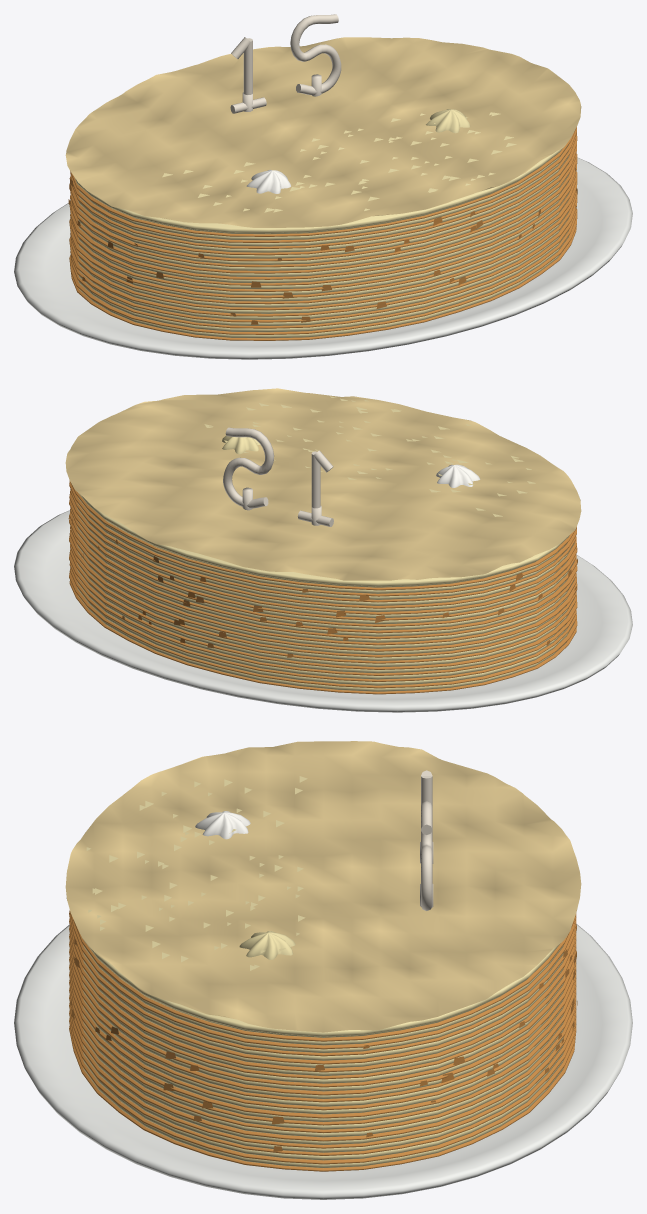
File: cake-15.7e28b0925a5c.glb
The picture shows the model from 3 angles, top to bottom: view 1: azimuth 30°, elevation 25°; view 2: azimuth 150°, elevation 25°; view 3: azimuth 270°, elevation 25°; orthographic projection. The views are drawn at different scales.
Visible parts, largest first — view 1: Irregular_hand_spread_food_surface, PART_FOOD_ROOT_MAT_durian, PART_FOOD_ROOT_MAT_sponge, Clean_porcelain_plate, PART_FOOD_ROOT_MAT_pearl_wax, Low_cream_whip; view 2: Irregular_hand_spread_food_surface, PART_FOOD_ROOT_MAT_durian, PART_FOOD_ROOT_MAT_sponge, Clean_porcelain_plate, PART_FOOD_ROOT_MAT_pearl_wax, Low_cream_whip; view 3: Irregular_hand_spread_food_surface, PART_FOOD_ROOT_MAT_sponge, PART_FOOD_ROOT_MAT_durian, Clean_porcelain_plate, PART_FOOD_ROOT_MAT_pearl_wax, Low_cream_whip.
Part boxes in pixels (<box>): Irregular_hand_spread_food_surface: <box>65,37,581,227</box>; PART_FOOD_ROOT_MAT_durian: <box>74,109,569,338</box>; PART_FOOD_ROOT_MAT_sponge: <box>68,127,577,340</box>; Clean_porcelain_plate: <box>14,157,632,359</box>; PART_FOOD_ROOT_MAT_pearl_wax: <box>230,14,341,113</box>; Low_cream_whip: <box>246,169,290,193</box>; Irregular_hand_spread_food_surface: <box>65,388,581,580</box>; PART_FOOD_ROOT_MAT_durian: <box>72,396,574,691</box>; PART_FOOD_ROOT_MAT_sponge: <box>68,480,577,694</box>; Clean_porcelain_plate: <box>14,510,632,712</box>; PART_FOOD_ROOT_MAT_pearl_wax: <box>223,427,333,526</box>; Low_cream_whip: <box>436,464,480,487</box>; Irregular_hand_spread_food_surface: <box>65,741,581,1032</box>; PART_FOOD_ROOT_MAT_sponge: <box>69,910,577,1171</box>; PART_FOOD_ROOT_MAT_durian: <box>81,776,564,1168</box>; Clean_porcelain_plate: <box>14,924,632,1199</box>; PART_FOOD_ROOT_MAT_pearl_wax: <box>420,770,433,910</box>; Low_cream_whip: <box>195,811,250,839</box>.
Bounding box in the file's own units: 0.2225 × 0.076 × 0.1679.
